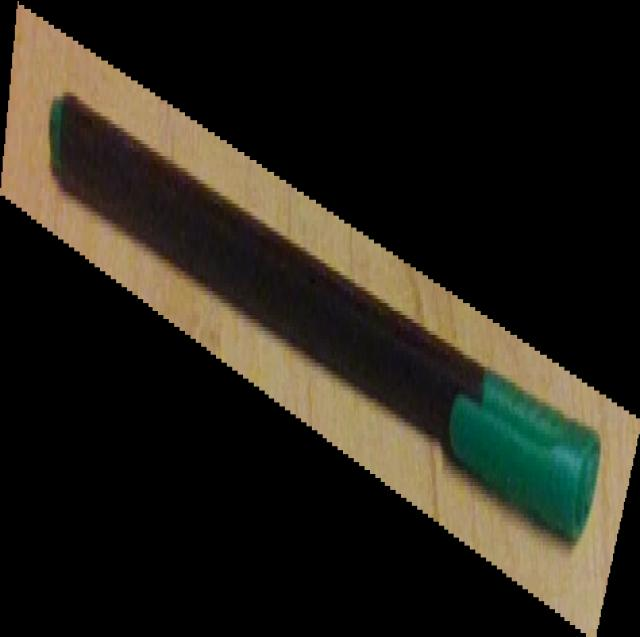green: (0, 0, 640, 637)
